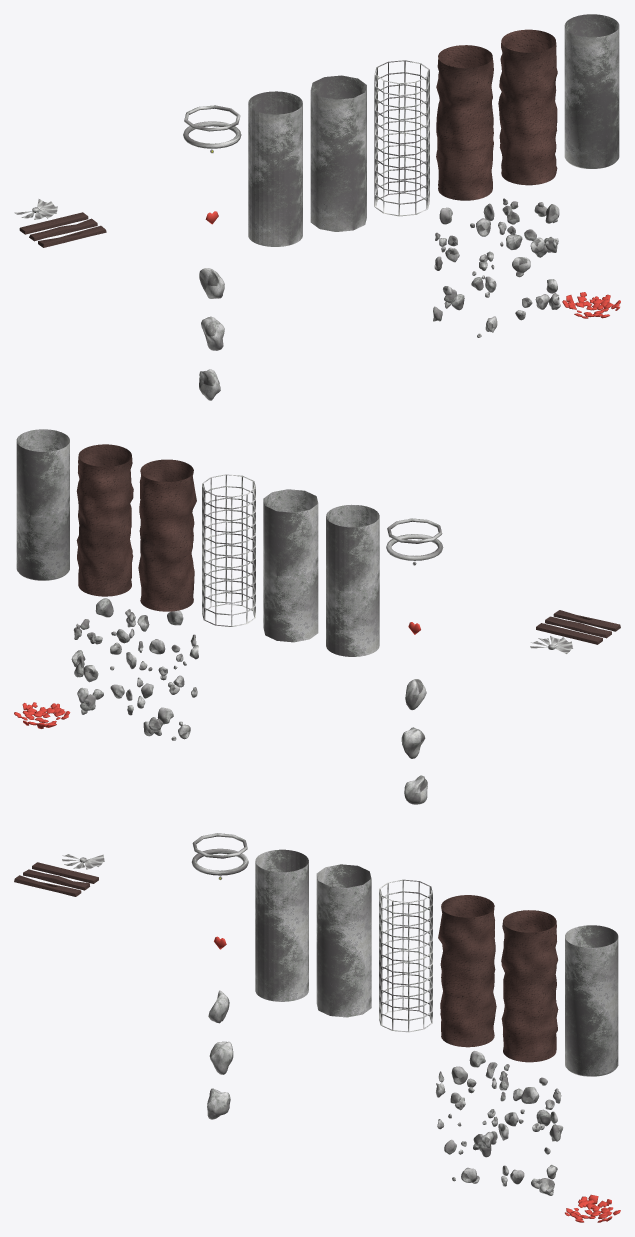
The model's file is models.glb.
3 renders of one model, top to bottom at view 1: azimuth 30°, elevation 25°; view 2: azimuth 150°, elevation 25°; view 3: azimuth 330°, elevation 25°, orthographic. The views are drawn at different scales.
Parts seen in each view (by area): view 1: Cylinder_tube, Cylinder_dirt_2, Cylinder_dirt_1, Cylinder_win, Cylinder, Cylinder_bars, Rocks_2, Rocks_1, Hearts, Ring_metal_2, Rock_2, Rock_1 (+3 smaller); view 2: Cylinder_tube, Cylinder_dirt_1, Cylinder_dirt_2, Cylinder, Cylinder_win, Cylinder_bars, Rocks_2, Rocks_1, Hearts, Ring_metal_2, Rock_3, Bar_1 (+3 smaller); view 3: Cylinder_tube, Cylinder_dirt_1, Cylinder_dirt_2, Cylinder, Cylinder_win, Cylinder_bars, Rocks_2, Rocks_1, Hearts, Ring_metal_2, Rock_2, Rock_3 (+1 smaller).
Boxes of the visible parts, left/top/right/bottom form: Cylinder_tube: left=310, top=75, right=366, bottom=231; Cylinder_dirt_2: left=498, top=29, right=557, bottom=185; Cylinder_dirt_1: left=436, top=45, right=493, bottom=200; Cylinder_win: left=564, top=14, right=619, bottom=168; Cylinder: left=248, top=91, right=302, bottom=246; Cylinder_bars: left=374, top=60, right=429, bottom=216; Rocks_2: left=498, top=198, right=560, bottom=320; Rocks_1: left=433, top=203, right=497, bottom=337; Hearts: left=562, top=292, right=620, bottom=318; Ring_metal_2: left=183, top=121, right=241, bottom=148; Rock_2: left=201, top=316, right=224, bottom=350; Rock_1: left=199, top=268, right=224, bottom=298; Cylinder_tube: left=263, top=489, right=318, bottom=642; Cylinder_dirt_1: left=138, top=459, right=196, bottom=611; Cylinder_dirt_2: left=76, top=444, right=133, bottom=596; Cylinder: left=326, top=504, right=379, bottom=656; Cylinder_win: left=16, top=429, right=69, bottom=580; Cylinder_bars: left=202, top=474, right=255, bottom=626; Rocks_2: left=71, top=598, right=136, bottom=715; Rocks_1: left=137, top=610, right=198, bottom=740; Hearts: left=14, top=702, right=70, bottom=728; Ring_metal_2: left=386, top=534, right=443, bottom=560; Rock_3: left=404, top=775, right=427, bottom=804; Bar_1: left=536, top=623, right=602, bottom=644; Cylinder_tube: left=316, top=864, right=371, bottom=1017; Cylinder_dirt_1: left=438, top=895, right=496, bottom=1047; Cylinder_dirt_2: left=501, top=910, right=558, bottom=1062; Cylinder: left=255, top=849, right=308, bottom=1001; Cylinder_win: left=565, top=925, right=618, bottom=1076; Cylinder_bars: left=379, top=879, right=432, bottom=1032; Rocks_2: left=498, top=1064, right=563, bottom=1195; Rocks_1: left=436, top=1051, right=497, bottom=1183; Hearts: left=565, top=1194, right=620, bottom=1222; Ring_metal_2: left=191, top=848, right=248, bottom=875; Rock_2: left=209, top=1041, right=233, bottom=1074; Rock_3: left=207, top=1088, right=230, bottom=1119.
Bounding box in the file's own units: 37.56 × 17.29 × 5.27.
6 materials, 4 textured.
